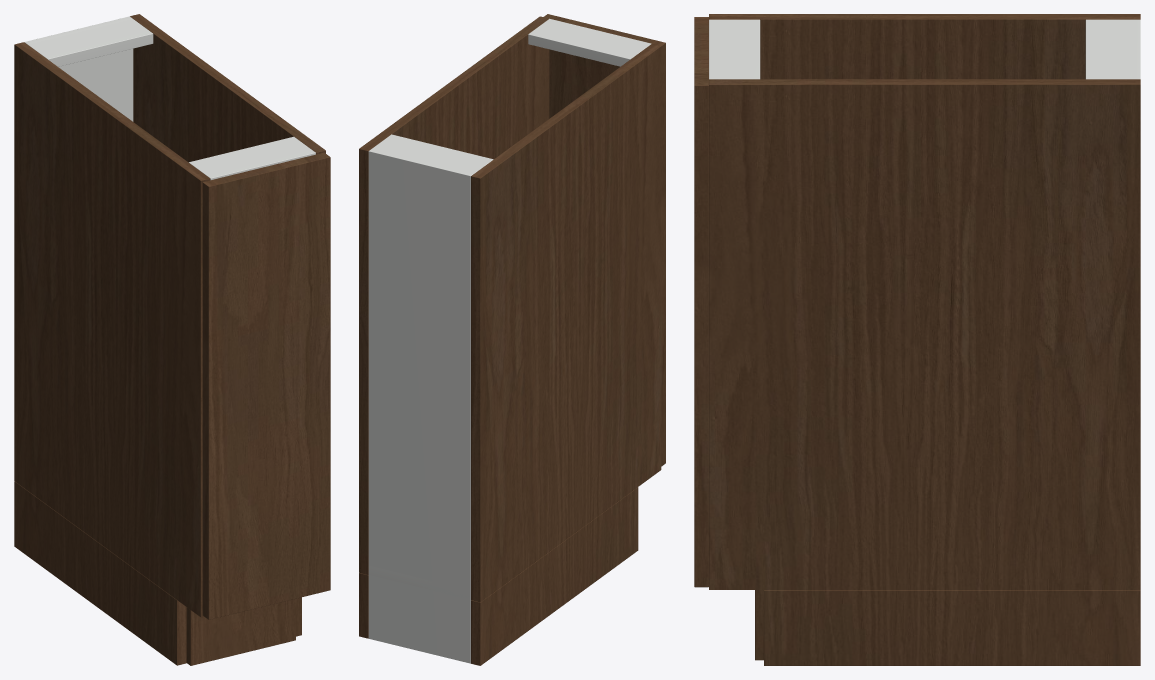
The model's file is bvc-2375.glb.
3 views of the same model, side by side, from view 1: azimuth 30°, elevation 25°; view 2: azimuth 150°, elevation 25°; view 3: azimuth 270°, elevation 25° (orthographic). The views are drawn at different scales.
Visible parts, largest first — view 1: Cabinet side, Door, Cabinet side.001, Recessed side plinth, Recessed toe board, Cabinet back, Top support rail, Top support rail.001; view 2: Cabinet side, Cabinet back, Cabinet side.001, Recessed side plinth, Door, Top support rail.001, Top support rail, Cabinet bottom, Recessed side plinth.001; view 3: Cabinet side.001, Recessed side plinth.001, Cabinet side, Door, Top support rail.001, Top support rail.
Part boxes in pixels (box(x1,y1,x2,y2)): Cabinet side: box(14, 42, 210, 617); Door: box(202, 152, 330, 619); Cabinet side.001: box(130, 14, 325, 162); Recessed side plinth: box(14, 481, 186, 665); Recessed toe board: box(186, 599, 295, 665); Cabinet back: box(24, 16, 133, 121); Top support rail: box(26, 19, 153, 66); Top support rail.001: box(189, 136, 315, 180); Cabinet side: box(471, 44, 661, 602); Cabinet back: box(368, 148, 473, 663); Cabinet side.001: box(359, 16, 549, 574); Recessed side plinth: box(471, 487, 638, 665); Door: box(543, 14, 665, 466); Top support rail.001: box(528, 18, 651, 66); Top support rail: box(372, 134, 493, 174); Cabinet bottom: box(368, 565, 462, 596); Recessed side plinth.001: box(359, 573, 368, 638); Cabinet side.001: box(709, 79, 1140, 589); Recessed side plinth.001: box(764, 590, 1140, 665); Cabinet side: box(709, 14, 1140, 79); Door: box(694, 17, 708, 587); Top support rail.001: box(709, 19, 760, 79); Top support rail: box(1085, 19, 1135, 79).
Bounding box in the file's own units: 0.2286 × 0.8763 × 0.6096.
2 materials, 1 textured.
